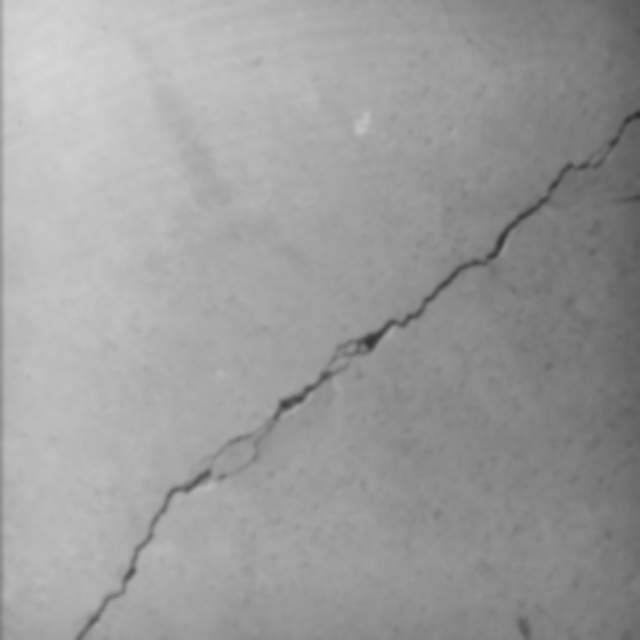SurfaceCrack: (1, 39, 640, 638)
